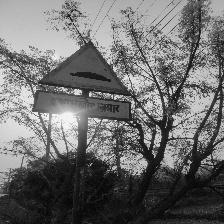Speed-breaker: (33, 40, 132, 122)
